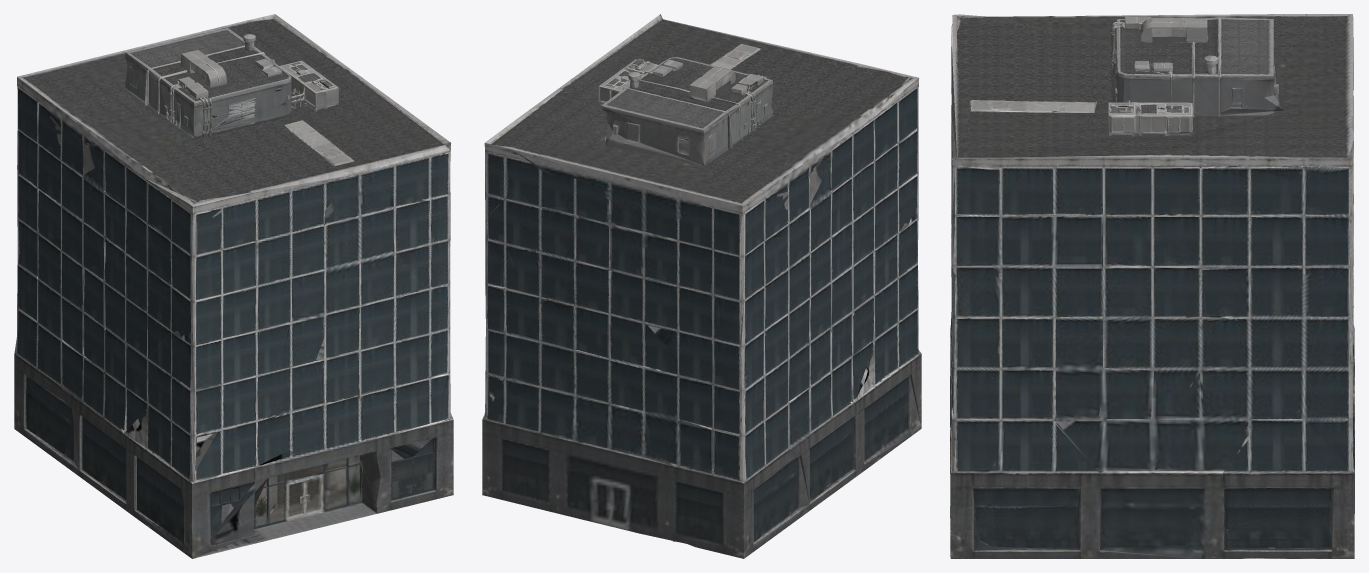
Rendered from bld-glass.glb.
3 renders of one model, left to right at view 1: azimuth 30°, elevation 25°; view 2: azimuth 150°, elevation 25°; view 3: azimuth 270°, elevation 25°, orthographic. The views are drawn at different scales.
Parts seen in each view (by area): view 1: output_unwrapped; view 2: output_unwrapped; view 3: output_unwrapped.
Boxes of the visible parts, x1=… form: output_unwrapped: x1=14, y1=14, x2=453, y2=558; output_unwrapped: x1=482, y1=14, x2=921, y2=558; output_unwrapped: x1=950, y1=14, x2=1354, y2=558.
Bounding box in the file's own units: 1.31 × 1.9 × 1.54.
1 material, 1 textured.
